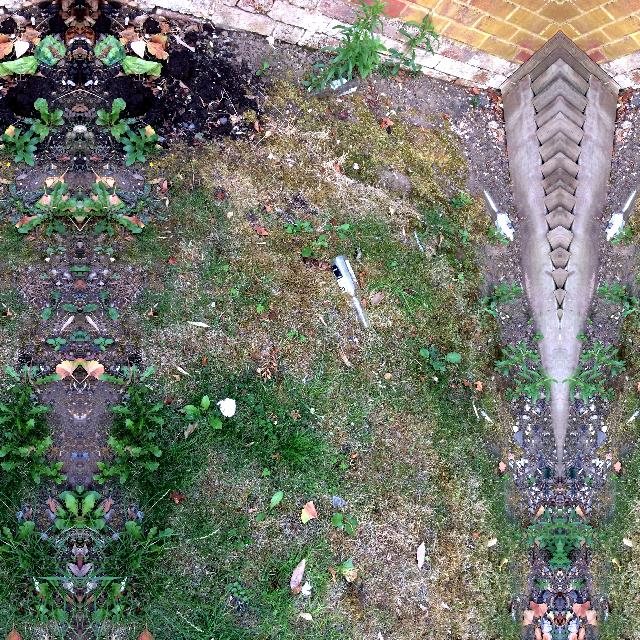Glass: (327, 250, 373, 330), (480, 185, 520, 248), (600, 185, 640, 248)
